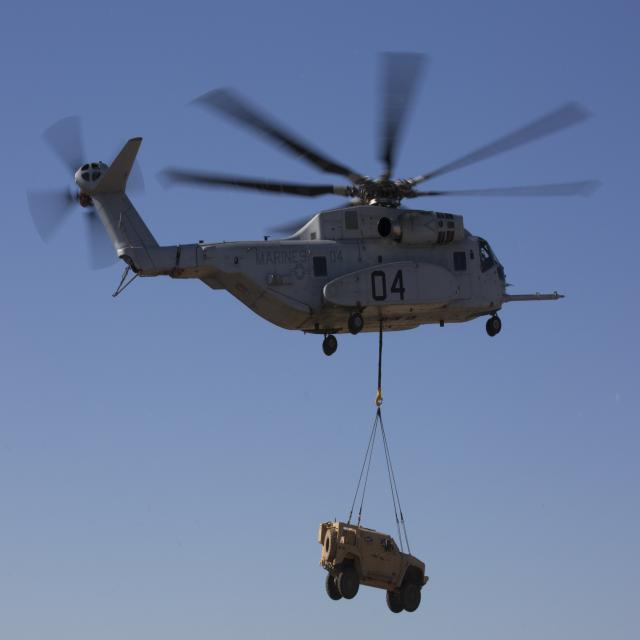helicopter: (36, 49, 608, 376)
